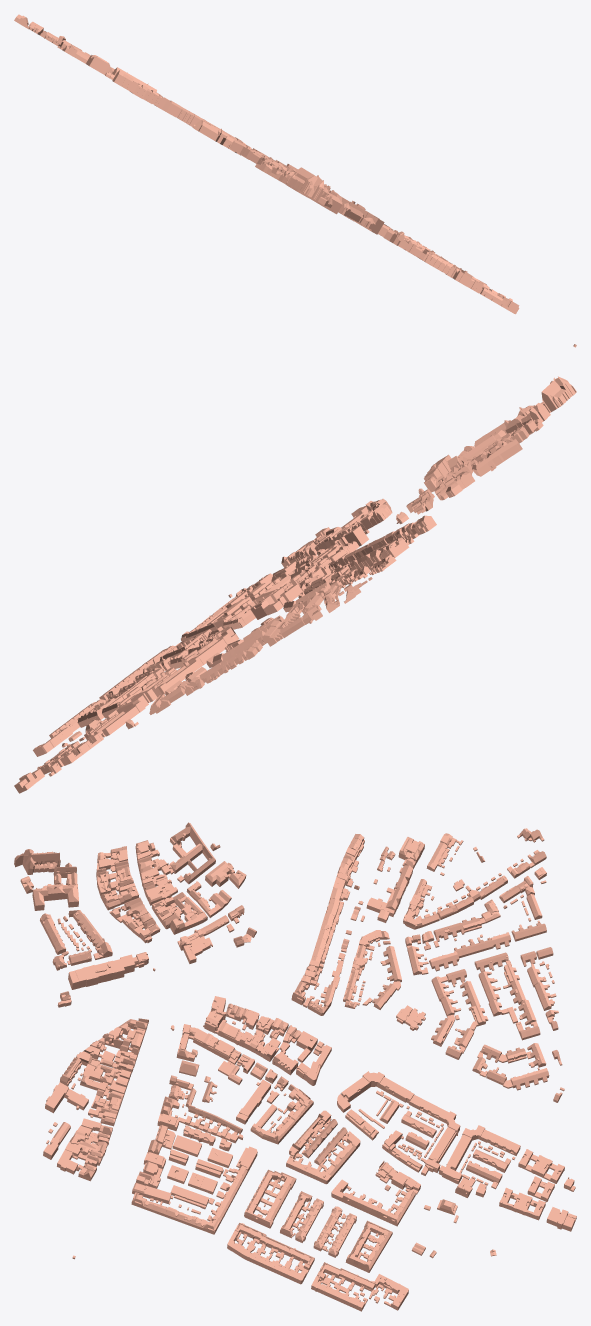
The picture shows the model from 3 angles, top to bottom: view 1: azimuth 30°, elevation 25°; view 2: azimuth 150°, elevation 25°; view 3: azimuth 270°, elevation 25°; orthographic projection. The views are drawn at different scales.
Bounding box in the file's own units: 507 × 400 × 647.
